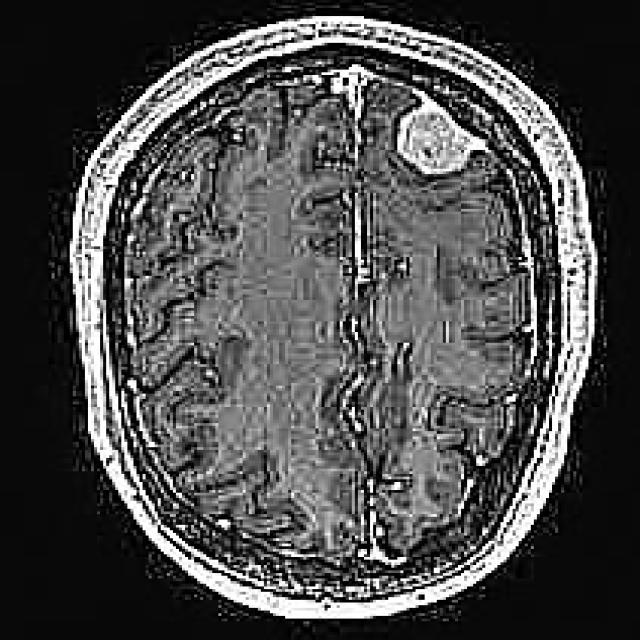Tumor-Cell: (397, 87, 486, 172)
